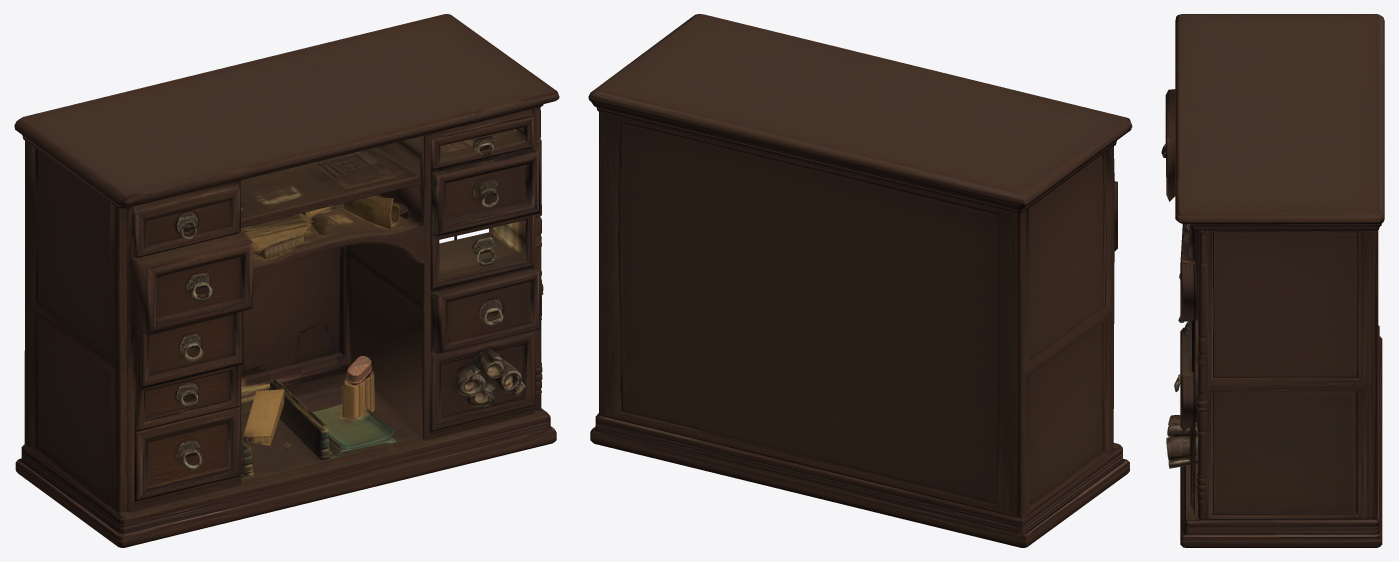
File: lower-cabinet.glb
3 renders of one model, left to right at view 1: azimuth 30°, elevation 25°; view 2: azimuth 150°, elevation 25°; view 3: azimuth 270°, elevation 25°, orthographic. The views are drawn at different scales.
Parts seen in each view (by area): view 1: f746fe14_302d_42f3_880c_09f021ca85db; view 2: f746fe14_302d_42f3_880c_09f021ca85db; view 3: f746fe14_302d_42f3_880c_09f021ca85db.
Boxes of the visible parts, bbox=[...] form: f746fe14_302d_42f3_880c_09f021ca85db: bbox=[14, 14, 559, 547]; f746fe14_302d_42f3_880c_09f021ca85db: bbox=[588, 14, 1132, 547]; f746fe14_302d_42f3_880c_09f021ca85db: bbox=[1161, 14, 1384, 547].
Size of the model in its own units: 0.9995 by 0.7681 by 0.4644.
Materials: 1 (1 with a texture image).
